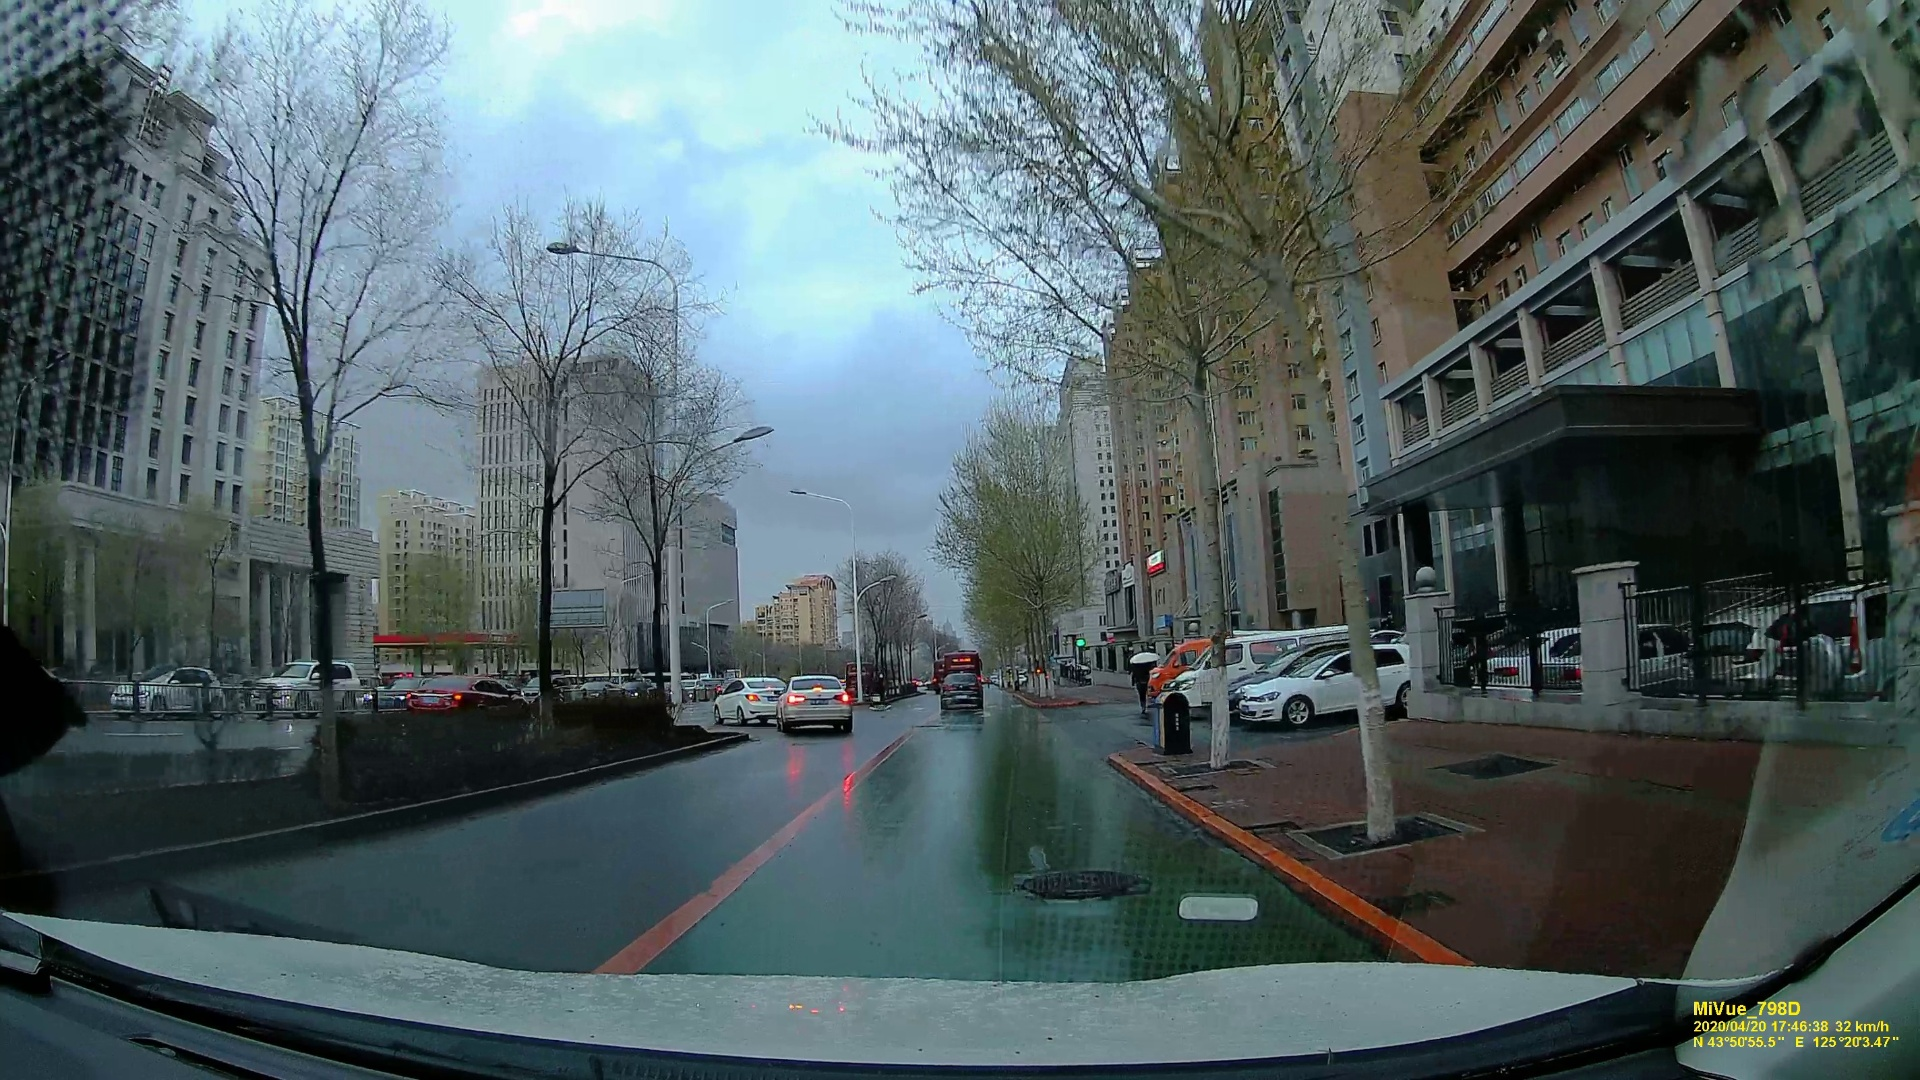person: (1128, 654, 1156, 708)
vehicle: (1234, 642, 1405, 723), (771, 674, 852, 734), (407, 676, 524, 715), (711, 676, 778, 723), (938, 674, 984, 712)
